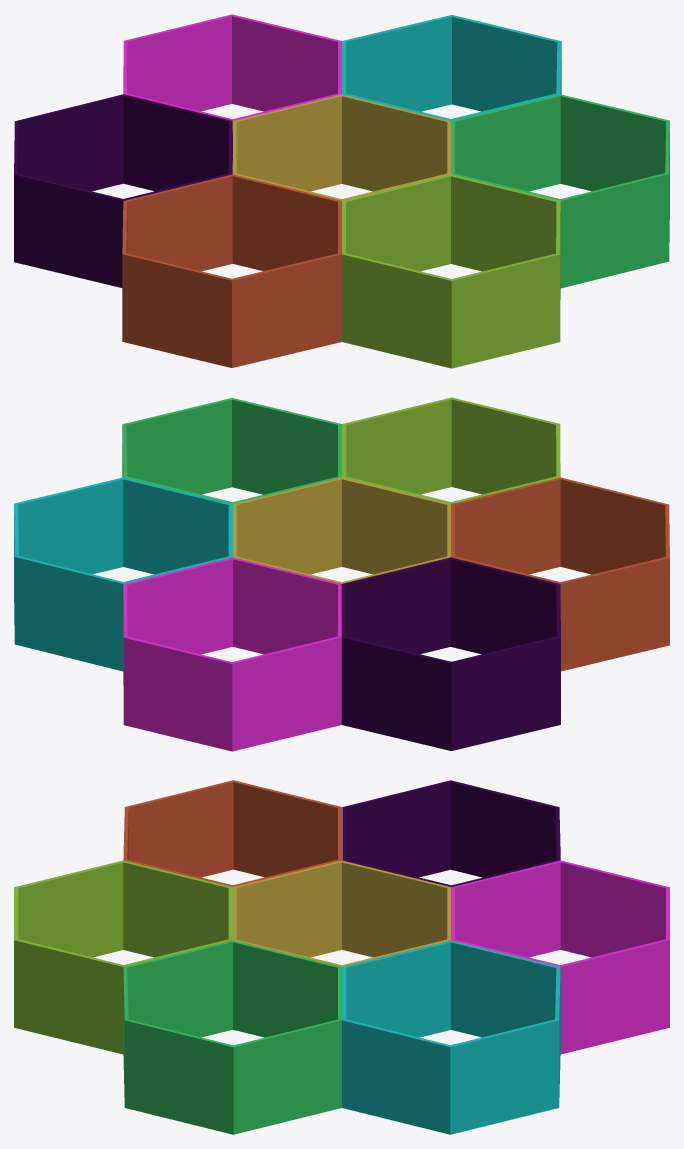
The model's file is MDL_Groundfloor_Walls_01.fbx.
3 renders of one model, top to bottom at view 1: azimuth 30°, elevation 25°; view 2: azimuth 150°, elevation 25°; view 3: azimuth 270°, elevation 25°, orthographic.
Visible parts, largest first — view 1: MDL_W_05_E, MDL_W_05_D, MDL_W_07_E, MDL_W_07_D, MDL_W_04_D, MDL_W_01_E, MDL_W_02_B, MDL_W_04_B, MDL_W_04_A, MDL_W_01_B, MDL_W_07_B, MDL_W_03_A (+8 smaller); view 2: MDL_W_01_A, MDL_W_03_A, MDL_W_02_A, MDL_W_02_F, MDL_W_01_F, MDL_W_07_F, MDL_W_01_D, MDL_W_05_C, MDL_W_02_C, MDL_W_07_C, MDL_W_04_D, MDL_W_03_D (+8 smaller); view 3: MDL_W_05_C, MDL_W_03_B, MDL_W_02_B, MDL_W_04_C, MDL_W_03_C, MDL_W_04_B, MDL_W_01_F, MDL_W_07_E, MDL_W_05_F, MDL_W_02_F, MDL_W_02_E, MDL_W_05_E (+8 smaller).
Boxes of the visible parts, left/top/right/bottom form: MDL_W_05_E: left=342, top=253, right=451, bottom=368; MDL_W_05_D: left=451, top=253, right=560, bottom=368; MDL_W_07_E: left=122, top=253, right=231, bottom=367; MDL_W_07_D: left=232, top=253, right=341, bottom=367; MDL_W_04_D: left=560, top=173, right=669, bottom=288; MDL_W_01_E: left=14, top=173, right=123, bottom=287; MDL_W_02_B: left=232, top=14, right=340, bottom=111; MDL_W_04_B: left=560, top=94, right=669, bottom=191; MDL_W_04_A: left=451, top=94, right=560, bottom=191; MDL_W_01_B: left=123, top=94, right=232, bottom=191; MDL_W_07_B: left=232, top=174, right=340, bottom=271; MDL_W_03_A: left=343, top=15, right=451, bottom=111; MDL_W_01_A: left=341, top=636, right=451, bottom=750; MDL_W_03_A: left=14, top=556, right=123, bottom=671; MDL_W_02_A: left=123, top=636, right=232, bottom=751; MDL_W_02_F: left=232, top=636, right=341, bottom=751; MDL_W_01_F: left=451, top=636, right=560, bottom=750; MDL_W_07_F: left=560, top=557, right=669, bottom=671; MDL_W_01_D: left=450, top=557, right=559, bottom=654; MDL_W_05_C: left=343, top=397, right=451, bottom=494; MDL_W_02_C: left=124, top=557, right=232, bottom=654; MDL_W_07_C: left=451, top=477, right=560, bottom=574; MDL_W_04_D: left=232, top=398, right=340, bottom=494; MDL_W_03_D: left=123, top=477, right=232, bottom=574; MDL_W_05_C: left=14, top=939, right=123, bottom=1054; MDL_W_03_B: left=450, top=1019, right=559, bottom=1134; MDL_W_02_B: left=560, top=939, right=669, bottom=1054; MDL_W_04_C: left=124, top=1019, right=233, bottom=1134; MDL_W_03_C: left=342, top=1019, right=450, bottom=1134; MDL_W_04_B: left=233, top=1019, right=341, bottom=1134; MDL_W_01_F: left=450, top=780, right=558, bottom=877; MDL_W_07_E: left=125, top=780, right=233, bottom=877; MDL_W_05_F: left=123, top=860, right=232, bottom=957; MDL_W_02_F: left=560, top=860, right=669, bottom=957; MDL_W_02_E: left=452, top=860, right=560, bottom=957; MDL_W_05_E: left=14, top=860, right=123, bottom=957.
Bounding box in the file's own units: 2866 × 438 × 2974.
